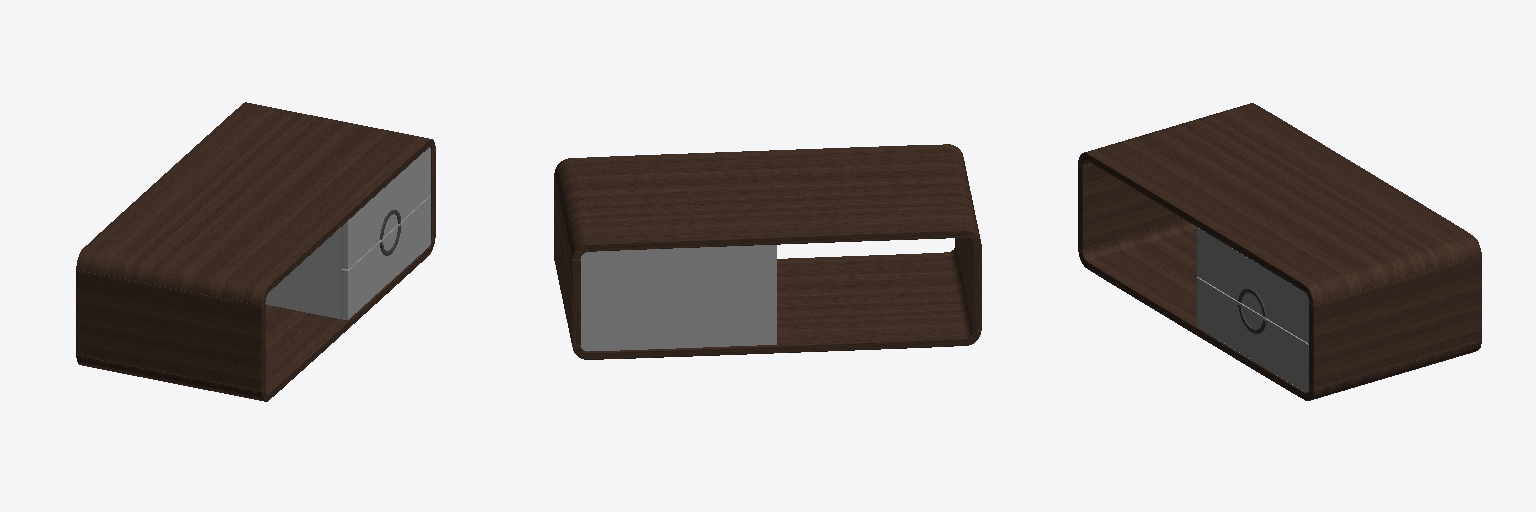
3 renders of one model, left to right at view 1: azimuth 30°, elevation 25°; view 2: azimuth 150°, elevation 25°; view 3: azimuth 270°, elevation 25°, orthographic.
Parts seen in each view (by area): view 1: Object001, Plane001, Plane003, Plane004; view 2: Object001, Plane004, Plane001; view 3: Object001, Plane001, Plane003.
Part boxes in pixels (x1,y1,x2,y2): Object001: (76,102,435,401); Plane001: (76,149,435,391); Plane003: (342,147,430,319); Plane004: (265,227,342,318); Object001: (554,144,981,359); Plane004: (580,245,776,351); Plane001: (554,174,981,344); Object001: (1078,103,1481,400); Plane001: (1078,163,1481,390); Plane003: (1197,227,1308,392).
Size of the model in its own units: 10.5 by 3.17 by 9.33.
4 materials, 1 textured.